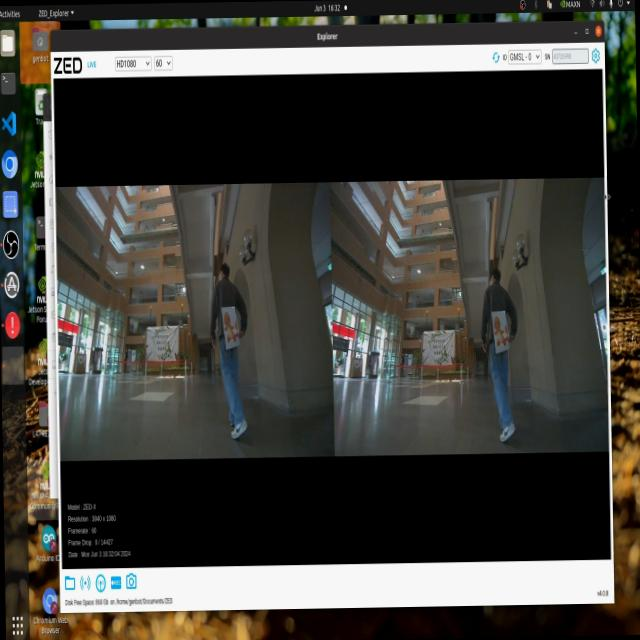red: (492, 305, 519, 355), (220, 304, 242, 346)
